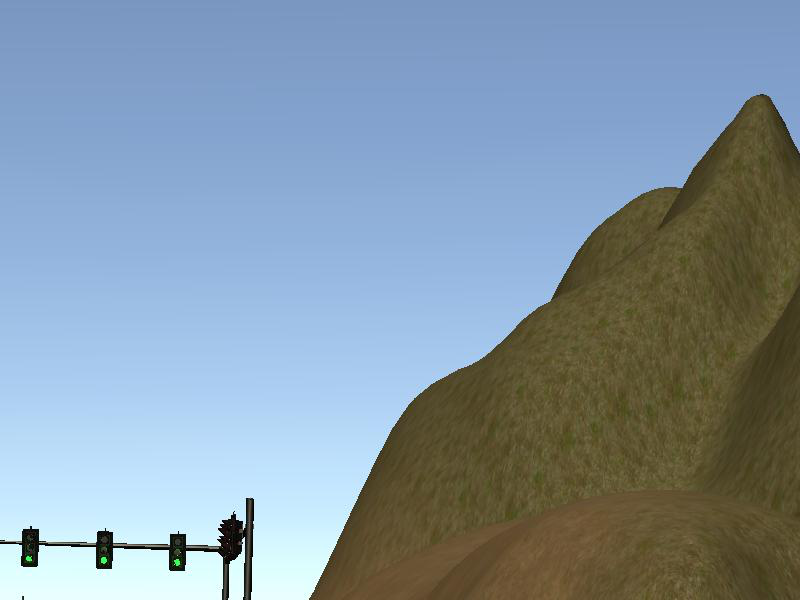green: (20, 528, 40, 566), (95, 530, 114, 569), (170, 532, 185, 572)
